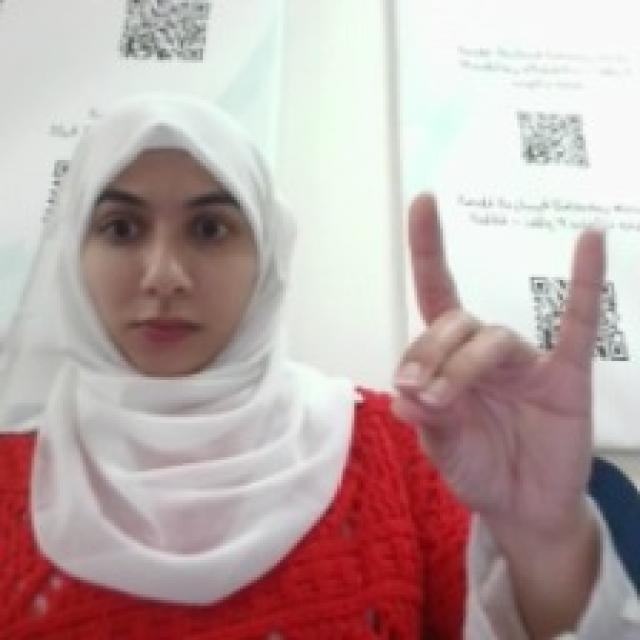Dog: (383, 183, 611, 523)
